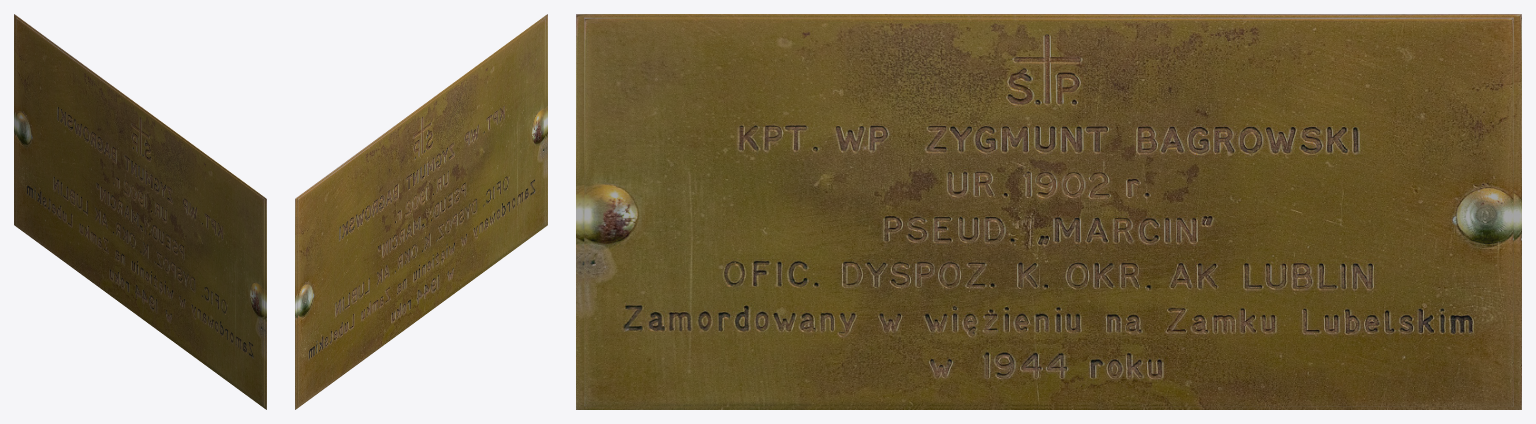
Rendered from 8. kpt. Wojska Polskiego ZYGMUNT BAGROWSKI.glb.
The picture shows the model from 3 angles, left to right: view 1: azimuth 30°, elevation 25°; view 2: azimuth 150°, elevation 25°; view 3: azimuth 270°, elevation 25°; orthographic projection. The views are drawn at different scales.
Parts seen in each view (by area): view 1: Plane; view 2: Plane; view 3: Plane.
Part boxes in pixels (x1,y1,x2,y2): Plane: [14, 14, 266, 409]; Plane: [295, 14, 547, 409]; Plane: [576, 14, 1521, 409].
Bounding box in the file's own units: 0.0246 × 6 × 13.
1 material, 1 textured.
